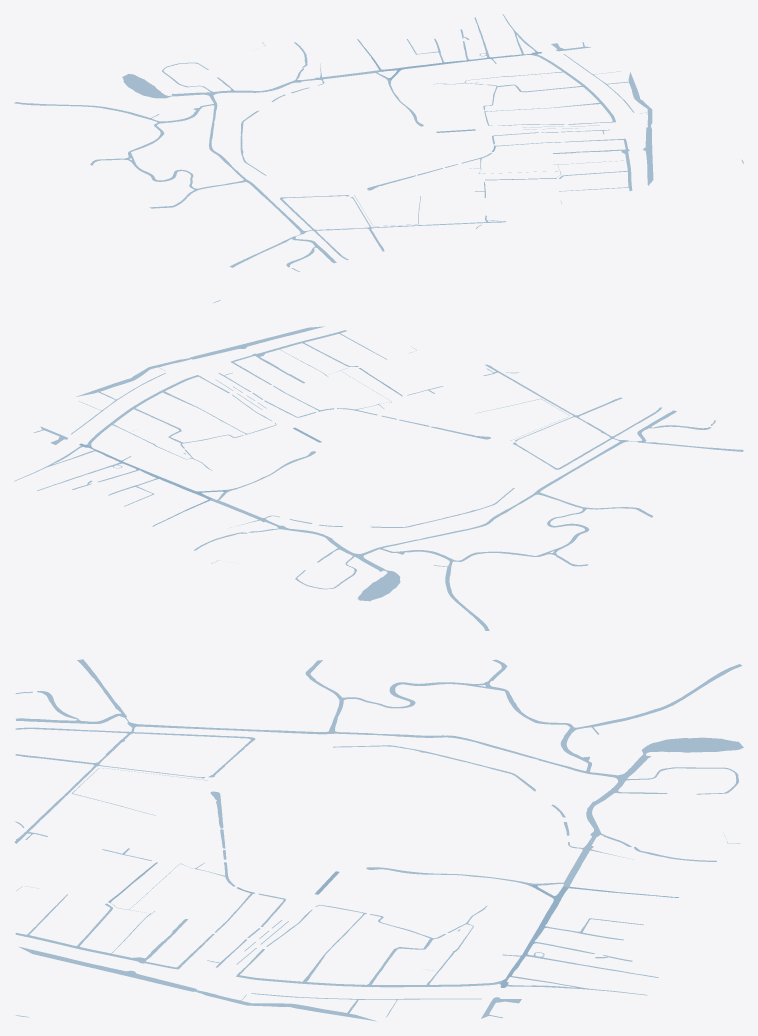
Rendered from water.glb.
3 views of the same model, one above another, from view 1: azimuth 30°, elevation 25°; view 2: azimuth 150°, elevation 25°; view 3: azimuth 270°, elevation 25° (orthographic). The views are drawn at different scales.
Visible parts, largest first — view 1: water; view 2: water; view 3: water.
Boxes of the visible parts, box(x1,y1,x2,y2) form: water: box(14, 14, 743, 271); water: box(14, 300, 743, 630); water: box(14, 659, 743, 1021).
Bounding box in the file's own units: 1419 × 0.9962 × 1209.
